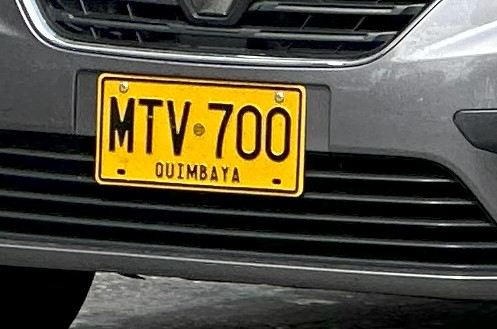number plate: (95, 73, 305, 195)
